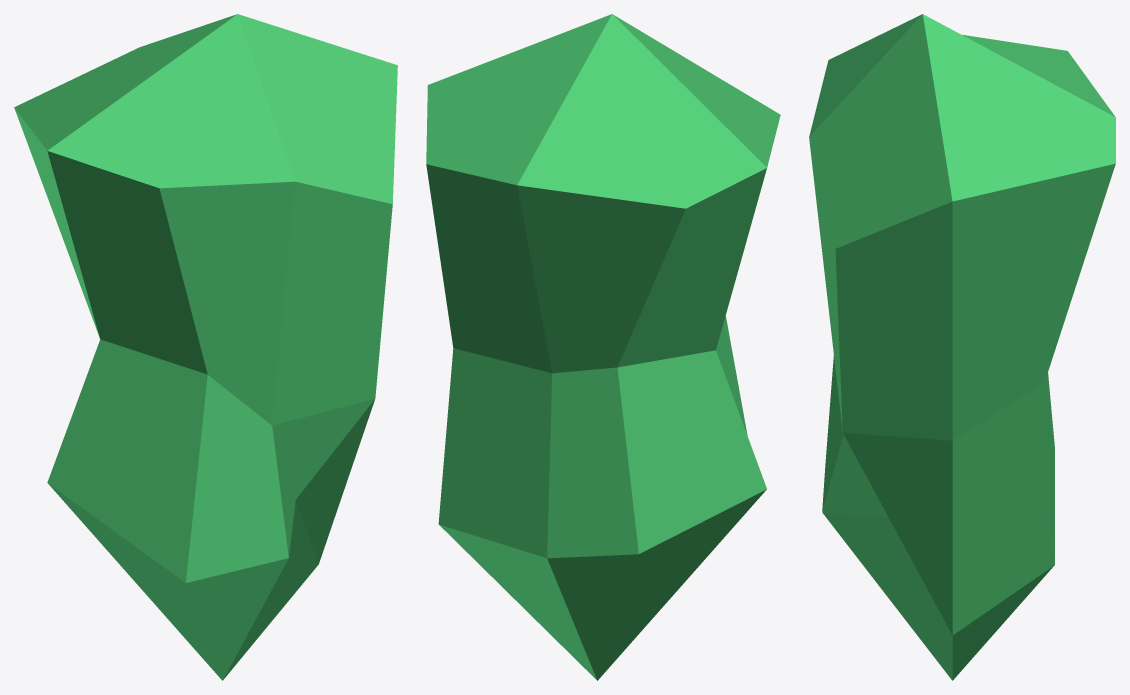
File: Gem.fbx
The picture shows the model from 3 angles, left to right: view 1: azimuth 30°, elevation 25°; view 2: azimuth 150°, elevation 25°; view 3: azimuth 270°, elevation 25°; orthographic projection. The views are drawn at different scales.
Parts seen in each view (by area): view 1: Cube; view 2: Cube; view 3: Cube.
Boxes of the visible parts, box(x1,y1,x2,y2) form: Cube: box(14, 14, 397, 680); Cube: box(426, 14, 780, 680); Cube: box(809, 14, 1115, 680).
Bounding box in the file's own units: 0.8267 × 1.53 × 0.6369.
